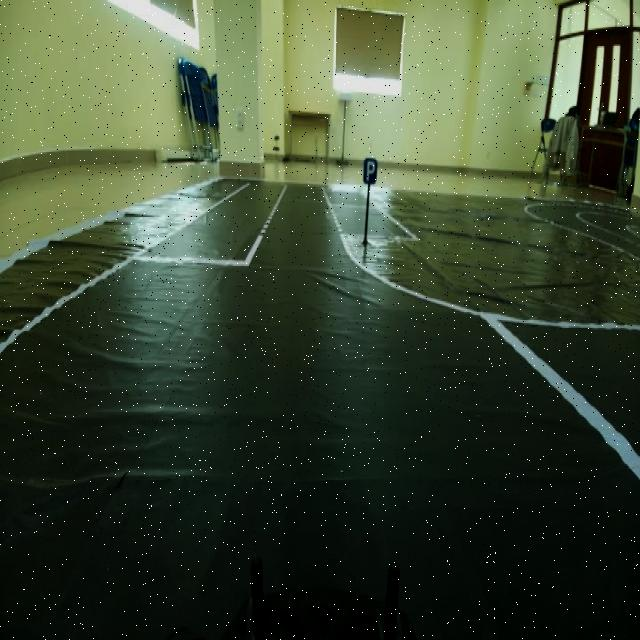parking: (359, 144, 382, 190)
